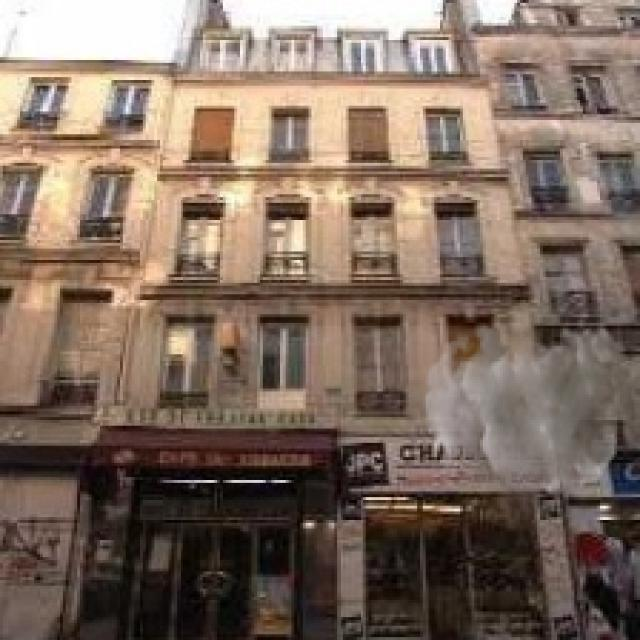Smoke: (422, 317, 628, 523)
